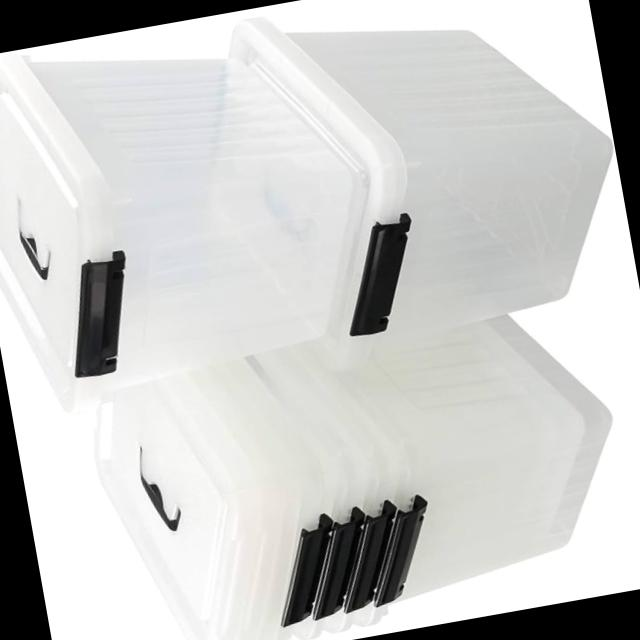plastic_box: (69, 264, 632, 640), (191, 0, 616, 370), (0, 19, 366, 427)
